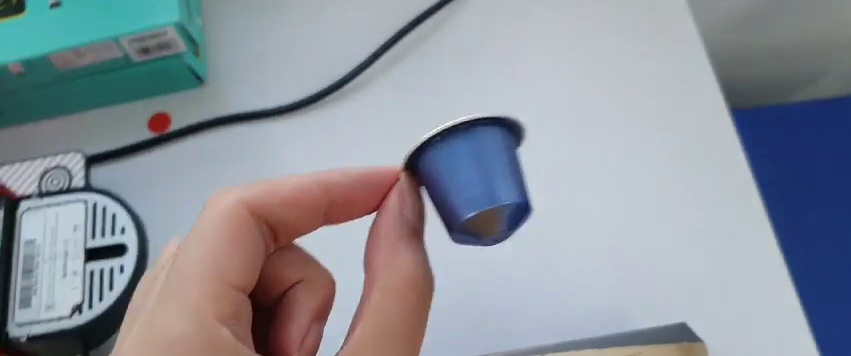capsule_7: (403, 110, 535, 249)
